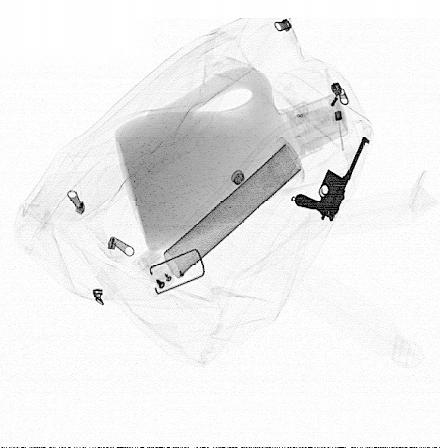Gun: (290, 136, 370, 222)
